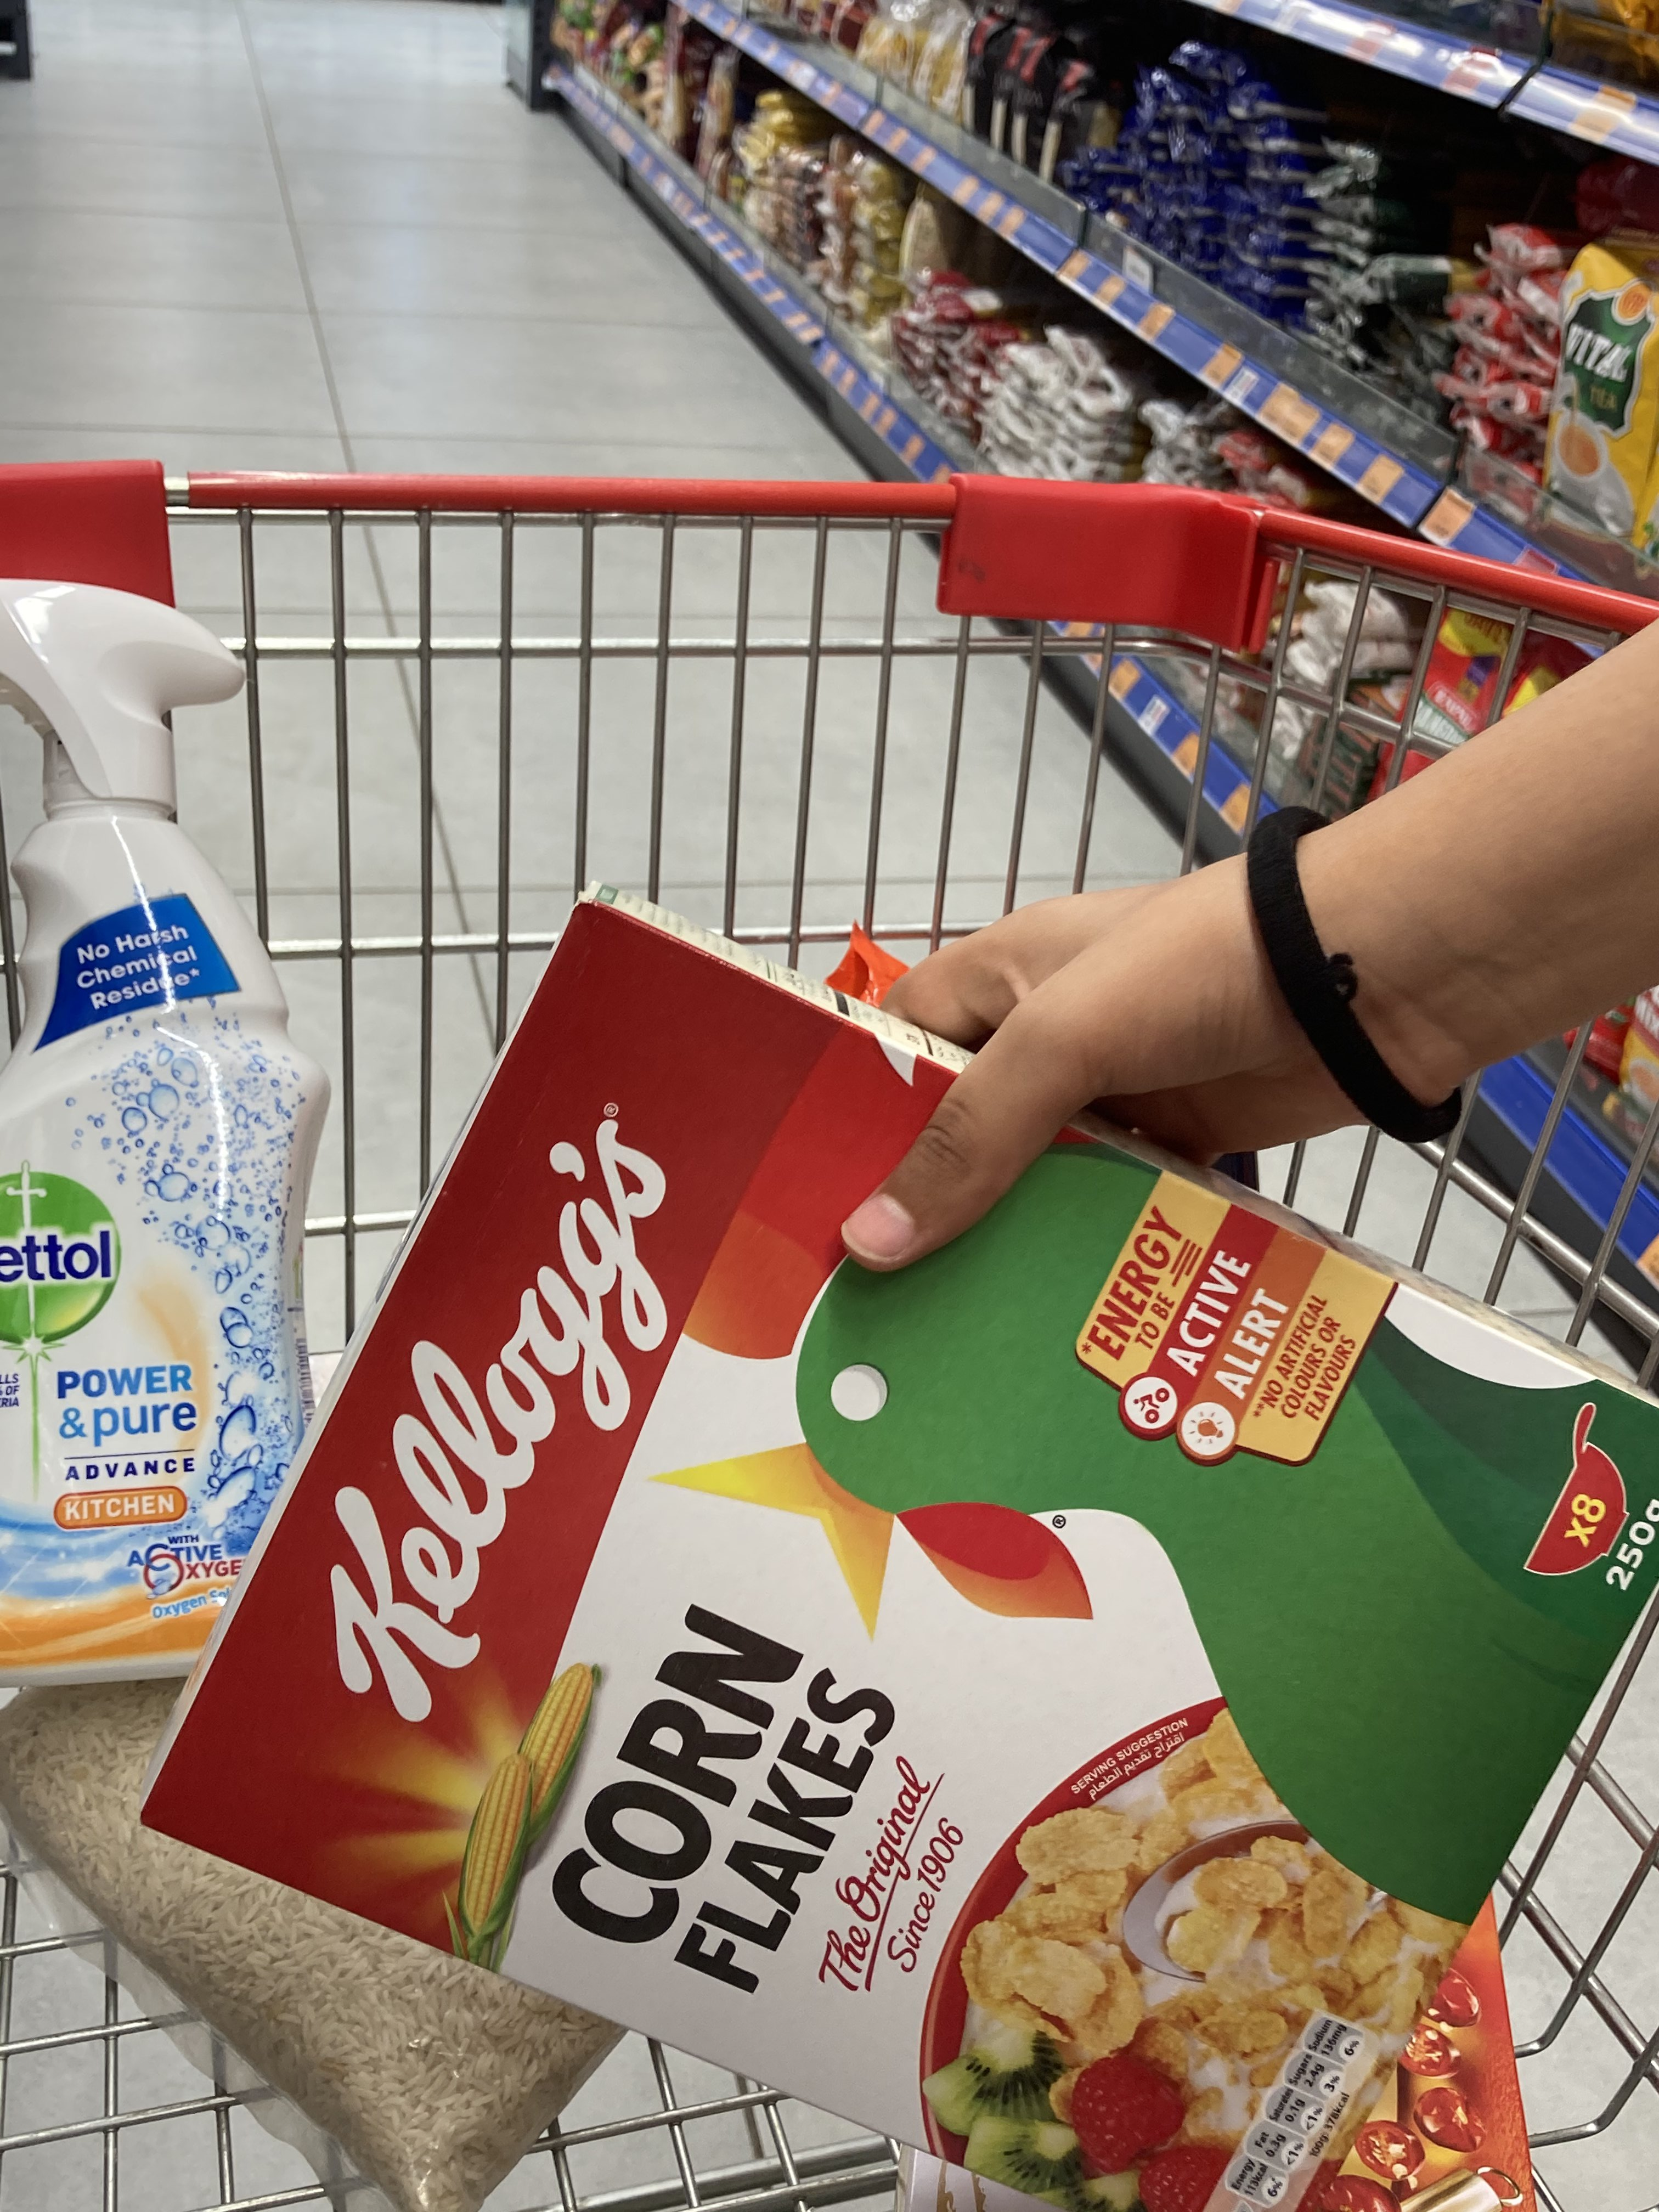Kellogg's Corn Flakes: (138, 883, 1659, 2212)
